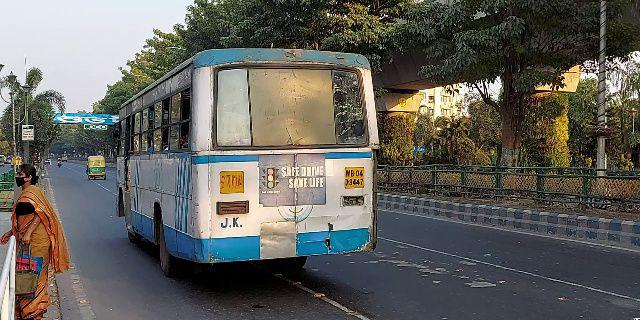Autorickshaw: (82, 150, 110, 185)
Bus: (111, 44, 385, 282)
